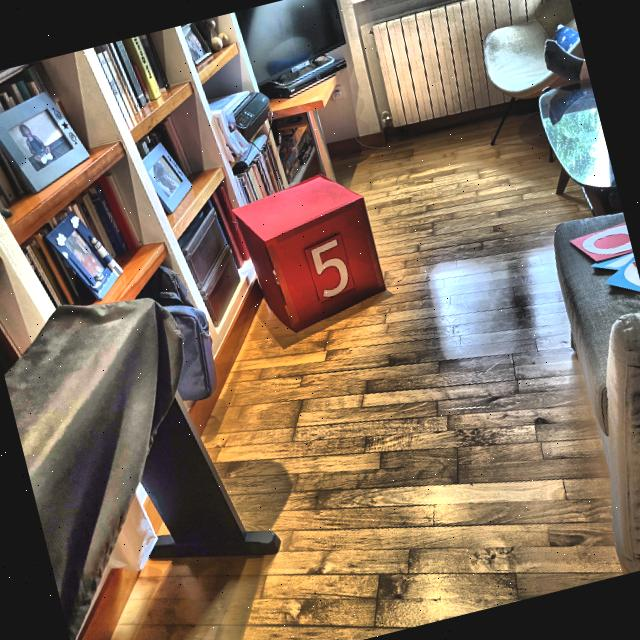five: (308, 236, 354, 300)
red box: (228, 165, 393, 344)
